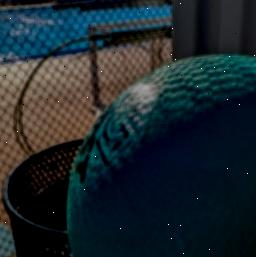algae: (63, 51, 256, 257)
